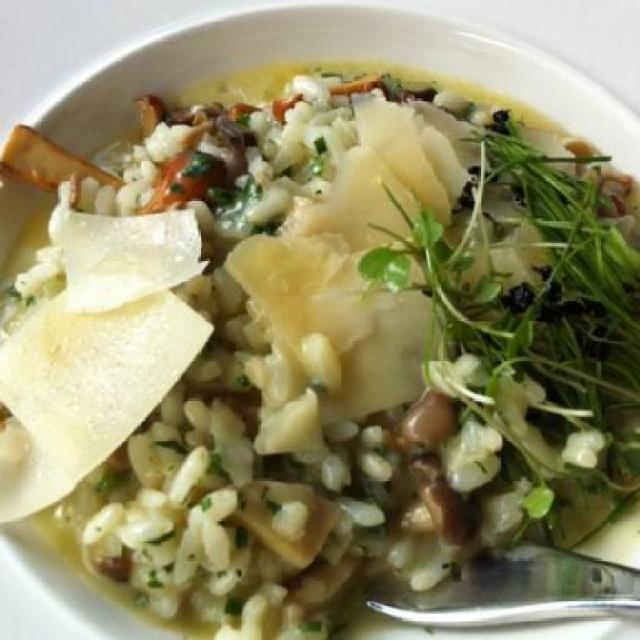Risotto: (17, 126, 620, 622)
